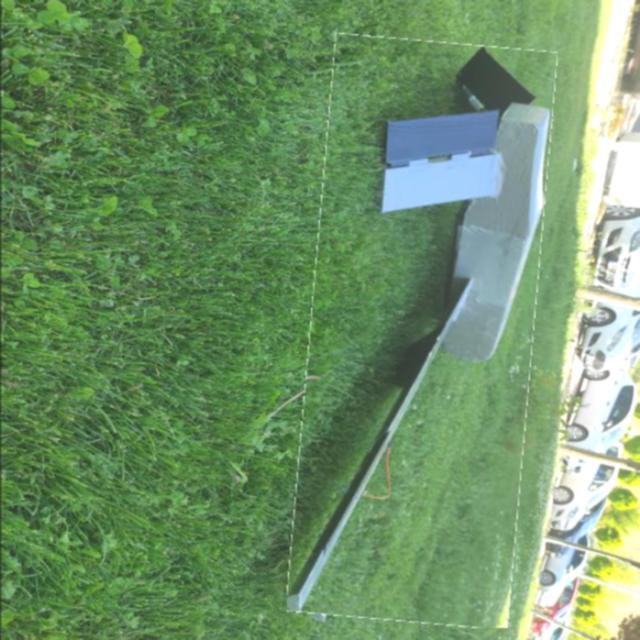plane: (285, 47, 552, 620)
